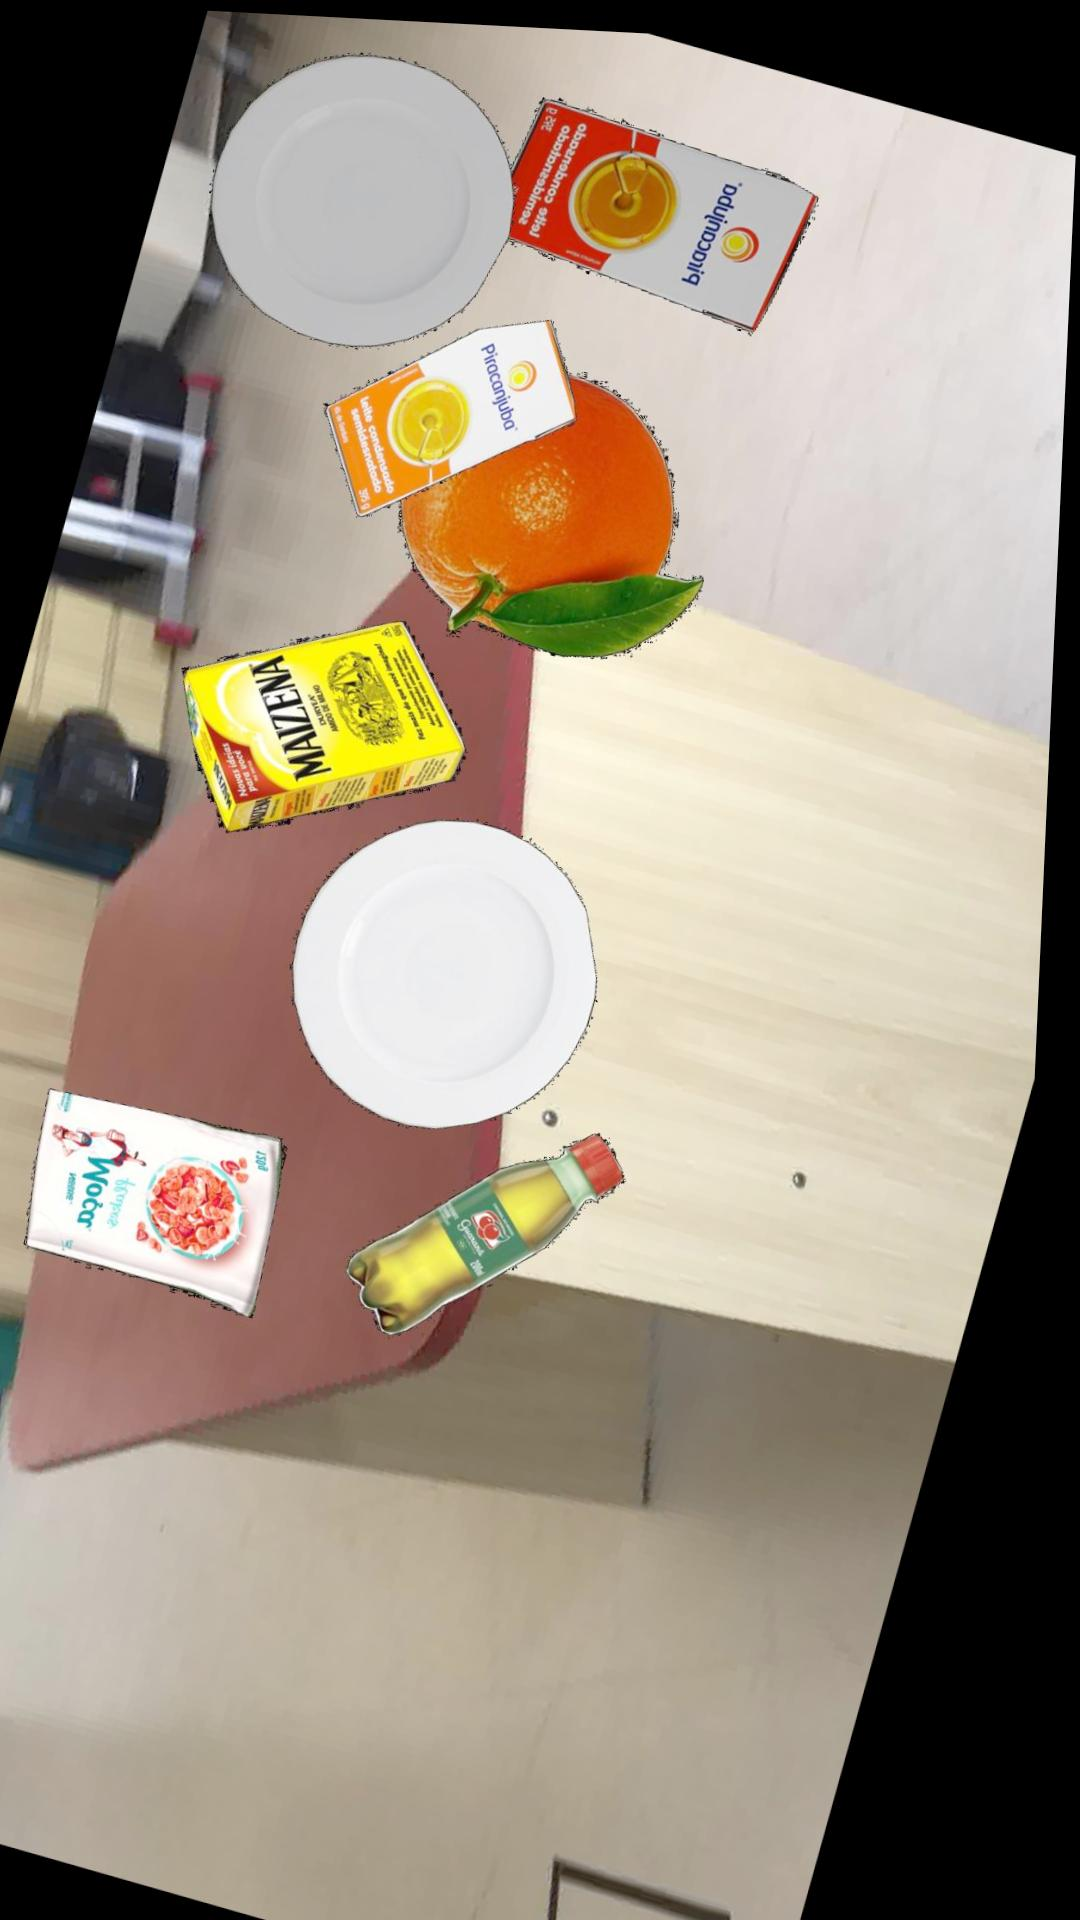corn flakes: (38, 1085, 299, 1313)
guarana: (359, 1125, 637, 1329)
orange: (405, 367, 711, 651)
plate: (302, 812, 609, 1122), (212, 49, 520, 342)
